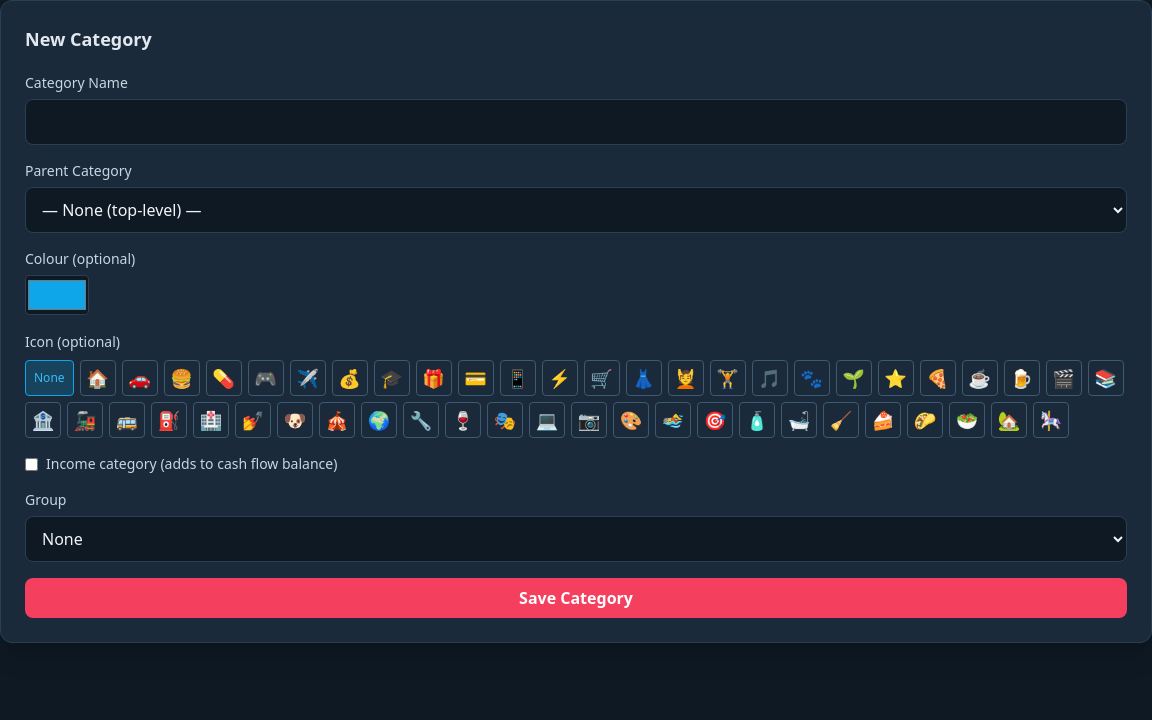
Test case: AddCategoryForm › shows an error message when the submission fails
In the field labelled "Category Name": (576, 122) [25,99,1127,145], type "Bad Category"
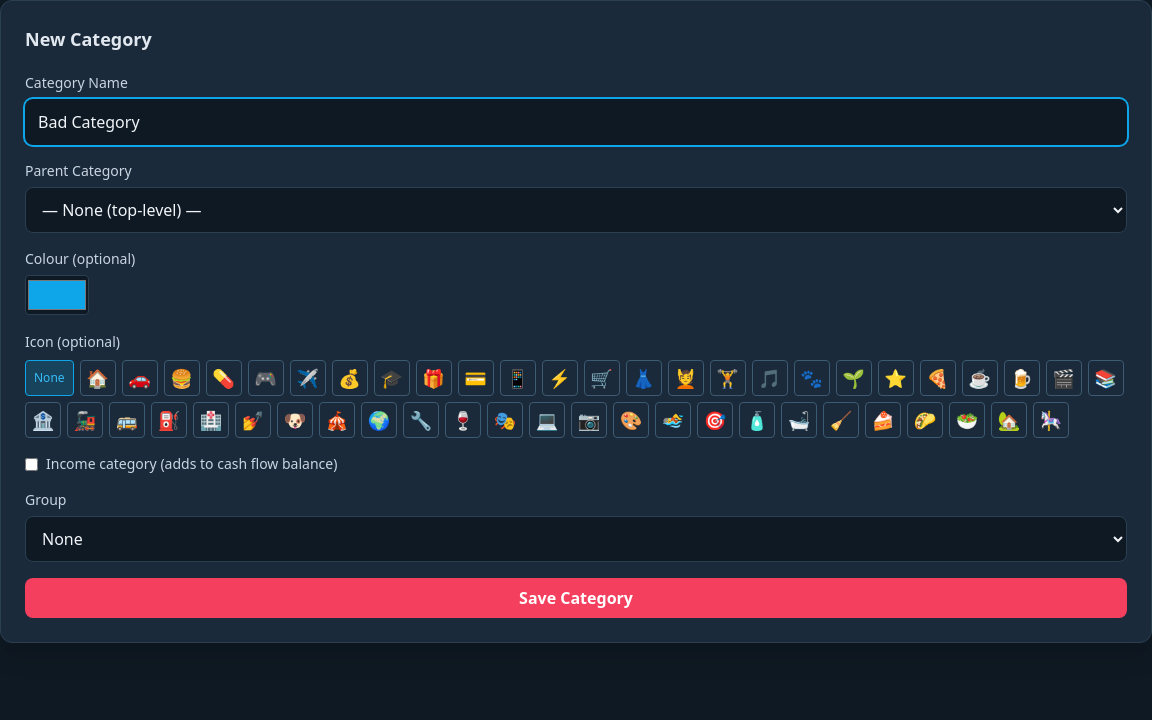
Click the button "Save Category": (576, 598) [25,578,1127,618]
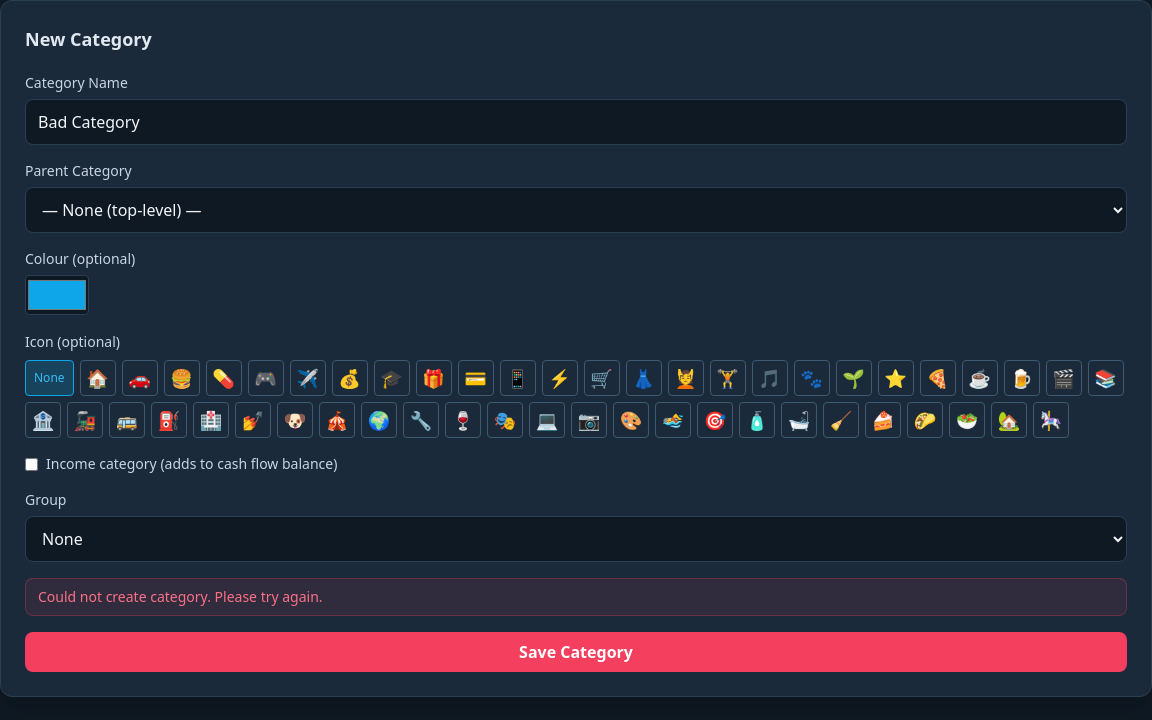
expect the text "Could not create category. Please try again." is shown: met, box [38,587,323,606]
